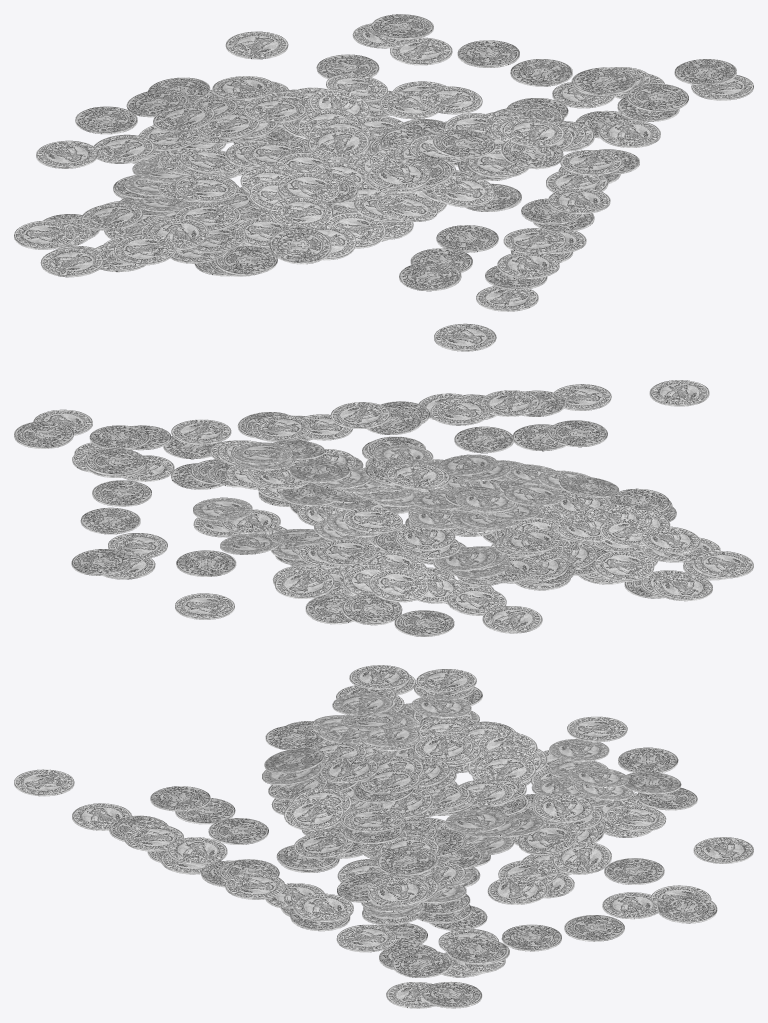
File: dinheiro2.glb
The picture shows the model from 3 angles, top to bottom: view 1: azimuth 30°, elevation 25°; view 2: azimuth 150°, elevation 25°; view 3: azimuth 270°, elevation 25°; orthographic projection. The views are drawn at different scales.
Visible parts, largest first — view 1: Coin001LP_inst000; view 2: Coin001LP_inst000; view 3: Coin001LP_inst000.
Part boxes in pixels (box(x1,y1,x2,y2)): Coin001LP_inst000: box(14, 14, 753, 351); Coin001LP_inst000: box(14, 380, 753, 636); Coin001LP_inst000: box(14, 665, 753, 1008).
Bounding box in the file's own units: 0.4011 × 0.0094 × 0.3665.
Materials: 1 (1 with a texture image).
